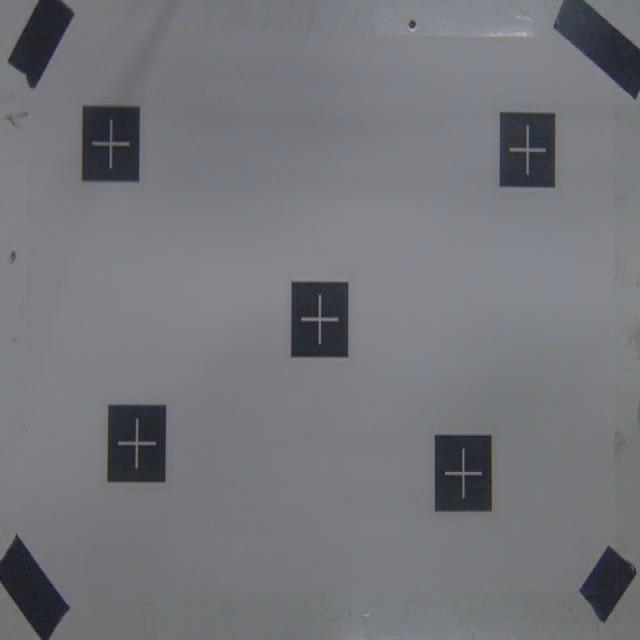dot: (107, 403, 166, 484), (435, 435, 492, 511), (499, 111, 555, 188), (291, 283, 348, 357), (83, 107, 140, 180)
